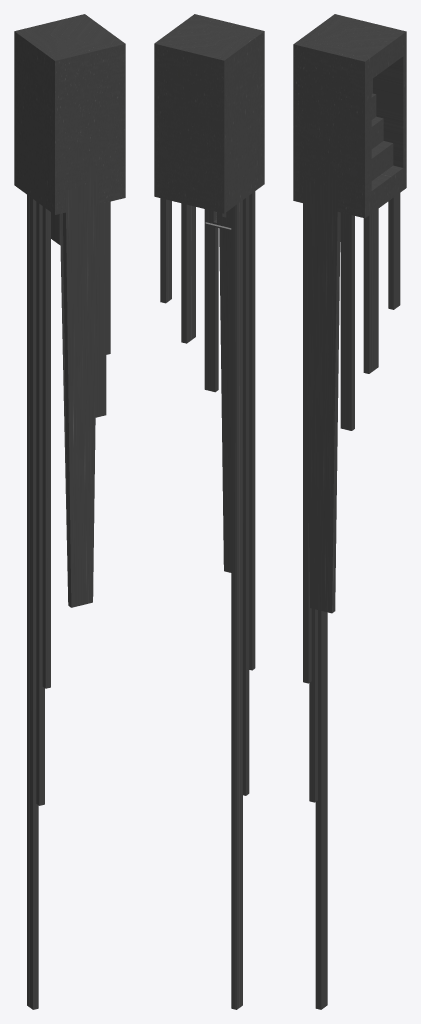
The model's file is eskleohell-01.glb.
3 renders of one model, left to right at view 1: azimuth 30°, elevation 25°; view 2: azimuth 150°, elevation 25°; view 3: azimuth 330°, elevation 25°, orthographic. The views are drawn at different scales.
Parts seen in each view (by area): view 1: Cube; view 2: Cube; view 3: Cube.
Boxes of the visible parts, x1=… form: Cube: x1=14, y1=14, x2=125, y2=1009; Cube: x1=154, y1=14, x2=264, y2=1009; Cube: x1=293, y1=14, x2=406, y2=1009.
Bounding box in the file's own units: 1.21 × 15.82 × 1.21.
Materials: 2 (1 with a texture image).
